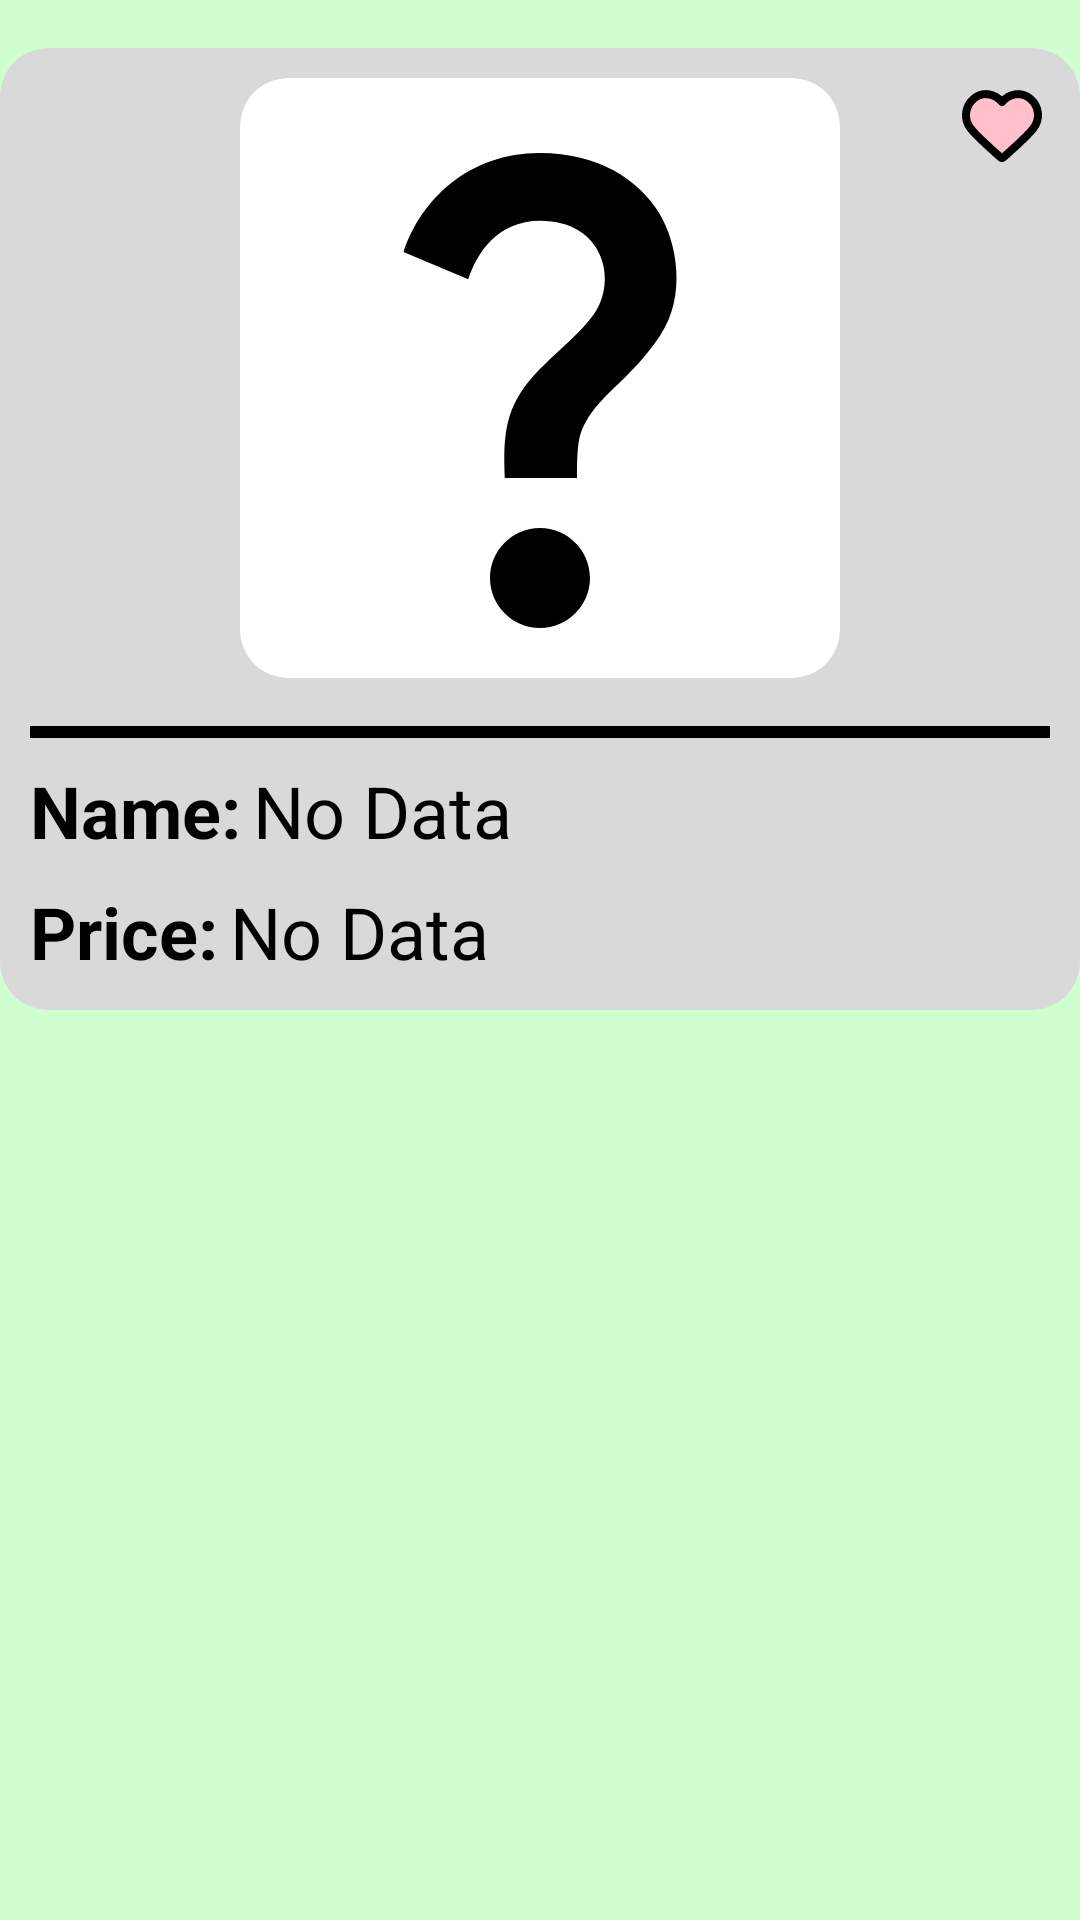

Named icons in this screenshot (1080w x 1920h) and their bounding boxes, (x1, y1, x2, y2):
Follow: (962, 90, 1042, 162)
